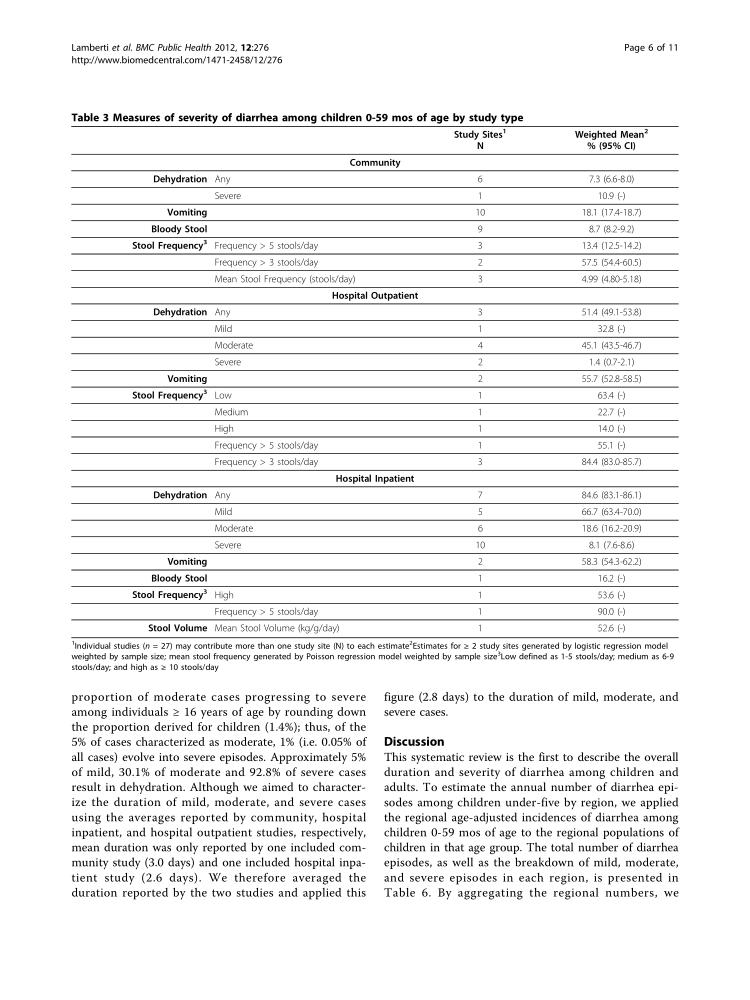table: (132, 127, 648, 633)
